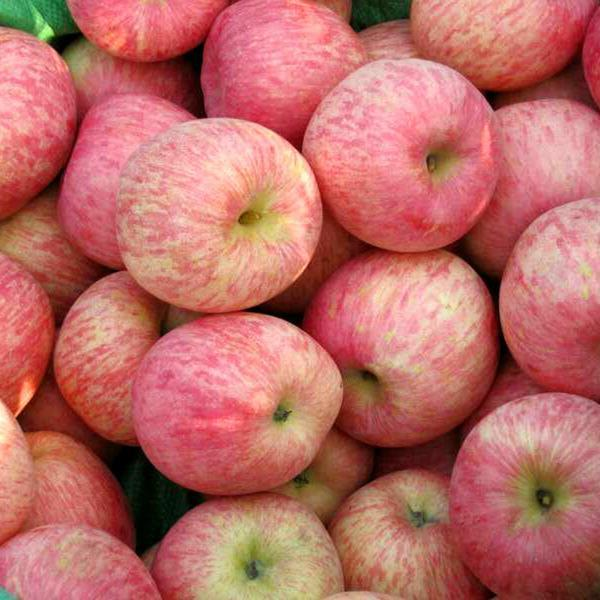apple: (114, 114, 321, 311), (132, 307, 345, 493), (301, 59, 498, 255), (305, 249, 502, 445), (447, 390, 598, 597), (53, 92, 188, 270), (458, 97, 597, 265), (53, 268, 179, 450), (202, 1, 362, 135), (496, 199, 600, 392), (151, 495, 343, 595), (1, 26, 76, 219)
